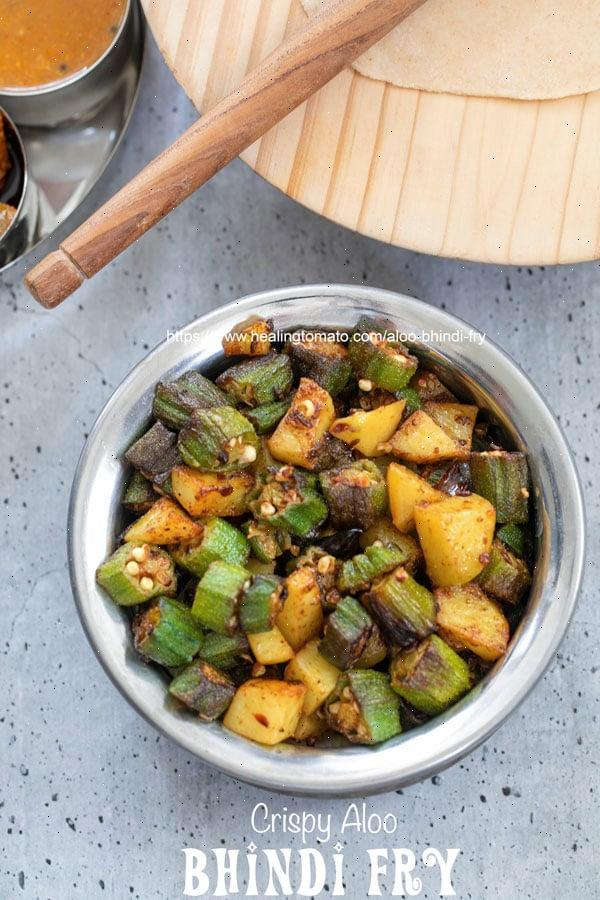bhindi: (126, 336, 525, 705)
